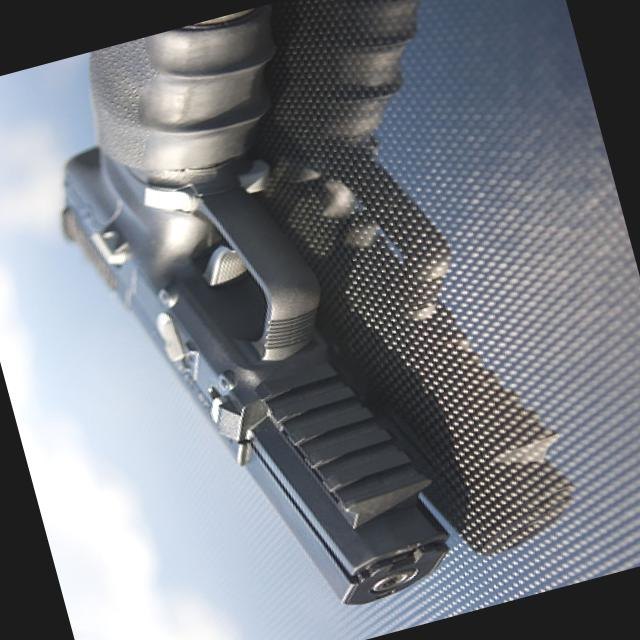handgun: (7, 0, 534, 639)
